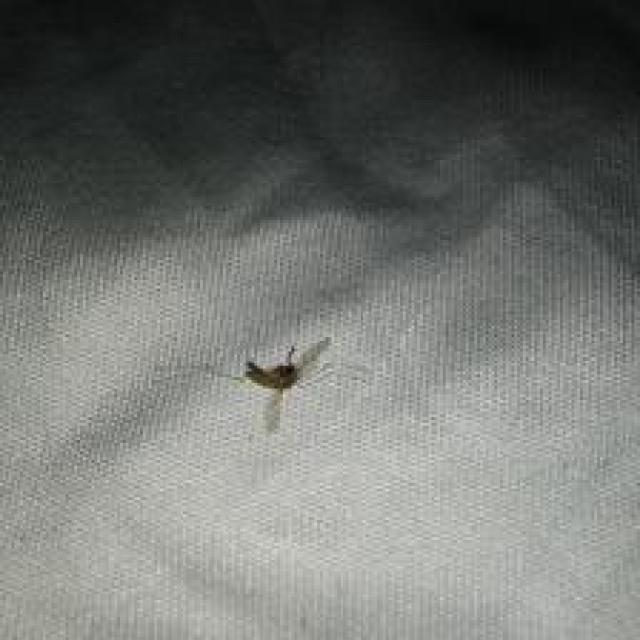Culex: (243, 334, 331, 397)
